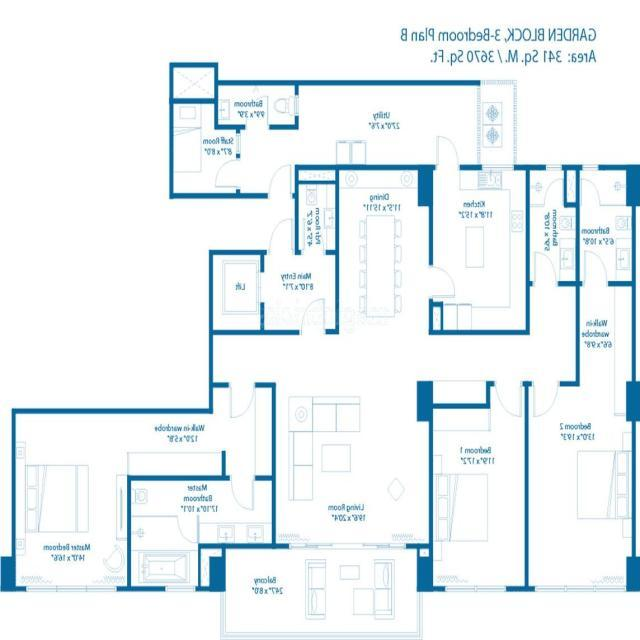Balcony-Sitout: (223, 547, 420, 640)
Bedroom: (527, 382, 635, 592), (430, 381, 529, 591), (577, 162, 635, 286)
Bedroom with Toilet: (14, 382, 274, 591), (172, 82, 296, 196)
Dining: (350, 205, 407, 335)
Dress: (575, 286, 637, 383)
Kitchen: (428, 167, 529, 335)
Living: (271, 382, 432, 548)
Toilet: (130, 477, 272, 591), (579, 164, 637, 283), (526, 165, 581, 285), (293, 183, 339, 255)
Utility: (295, 77, 518, 170)
